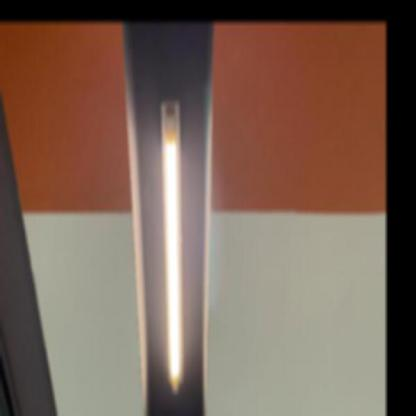light_on: (153, 98, 191, 400)
